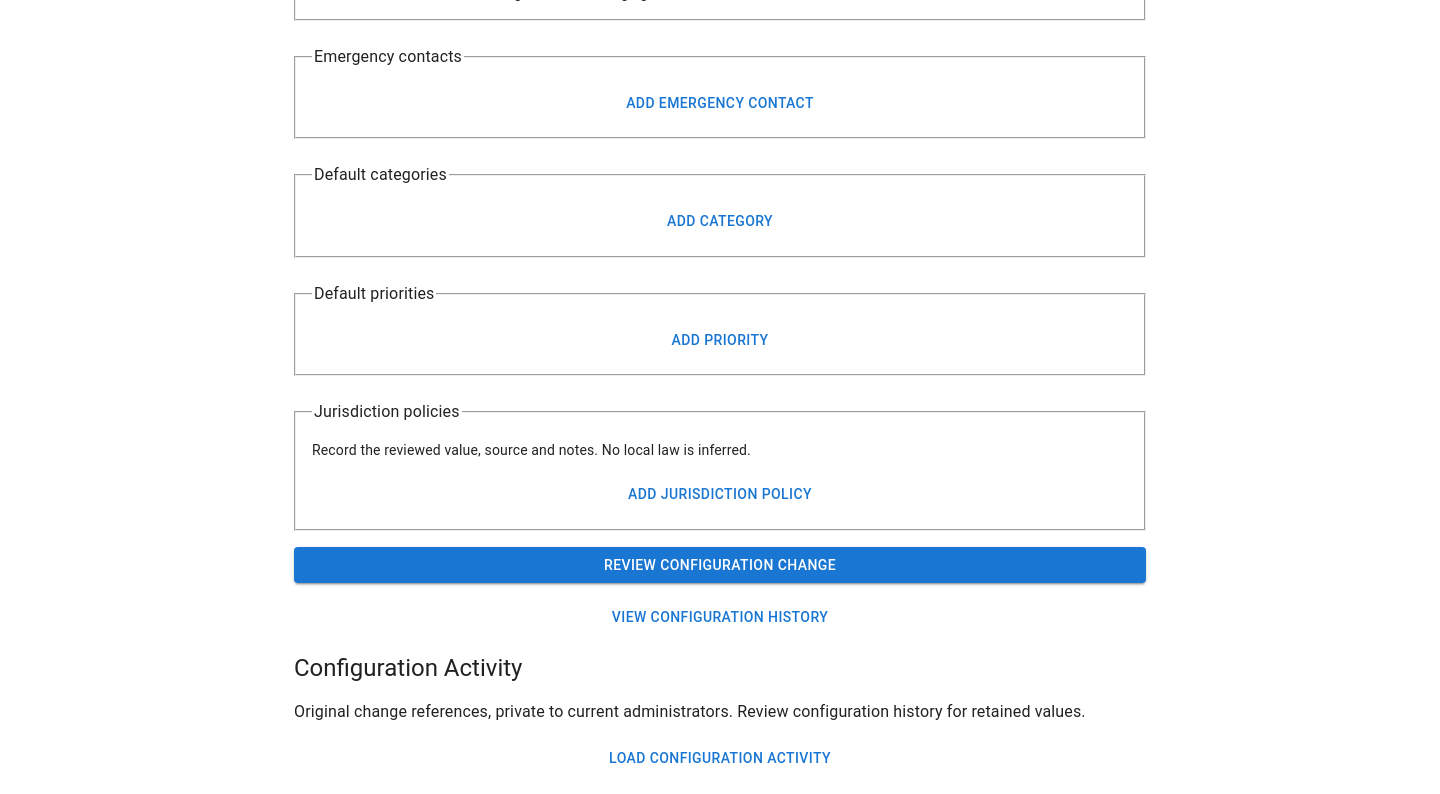
Scenario: records uncertain submission and exact original retry without keys or reviewed values
(page scrolled)
What coordinates should you click on to do the following:
click the button "Review configuration change"
I would click on:
 (720, 565)
Its box is left=294, top=546, right=1146, bottom=583.
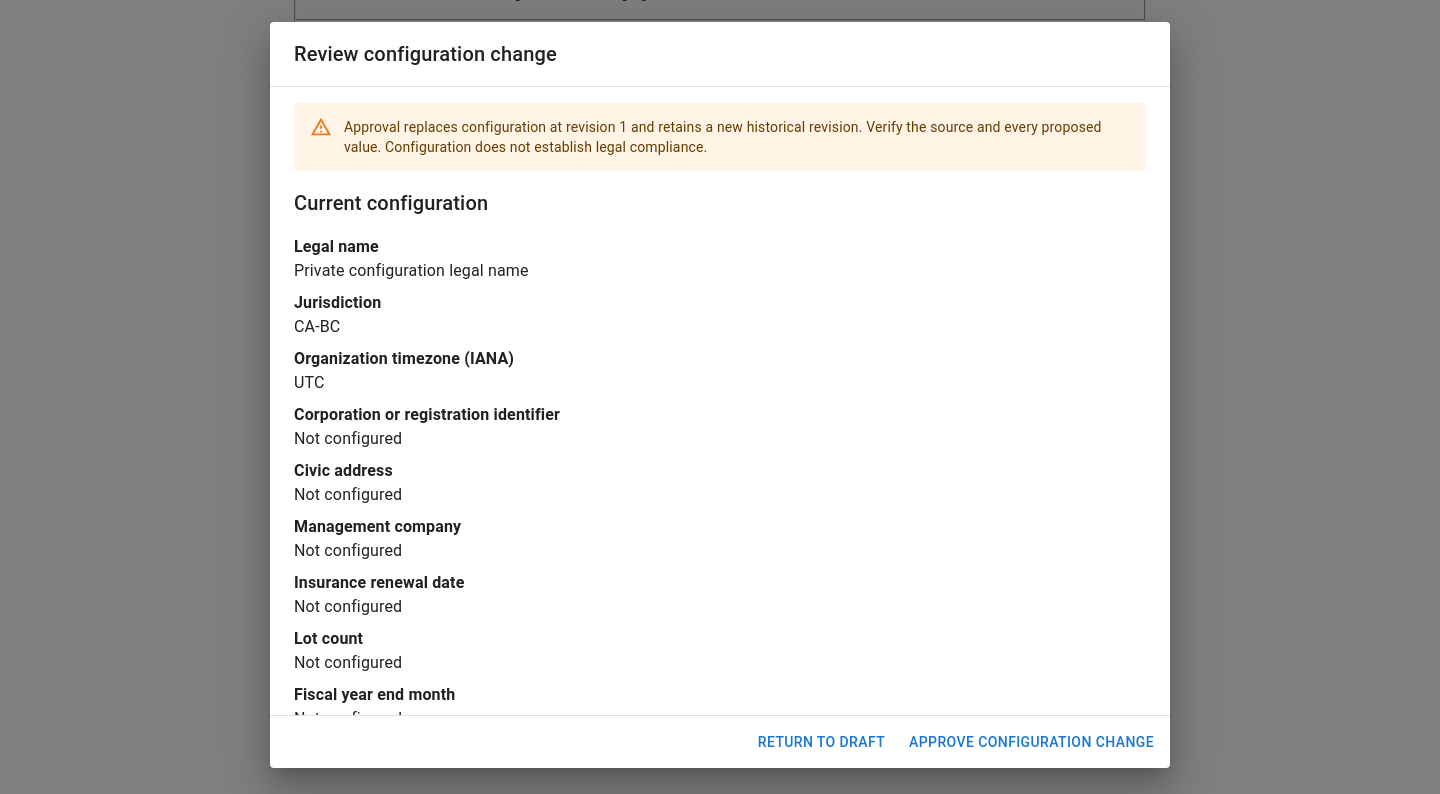
What coordinates should you click on to do the following:
click the button "Approve configuration change"
I would click on:
 (1032, 742)
Its box is left=901, top=724, right=1162, bottom=760.
(page scrolled)
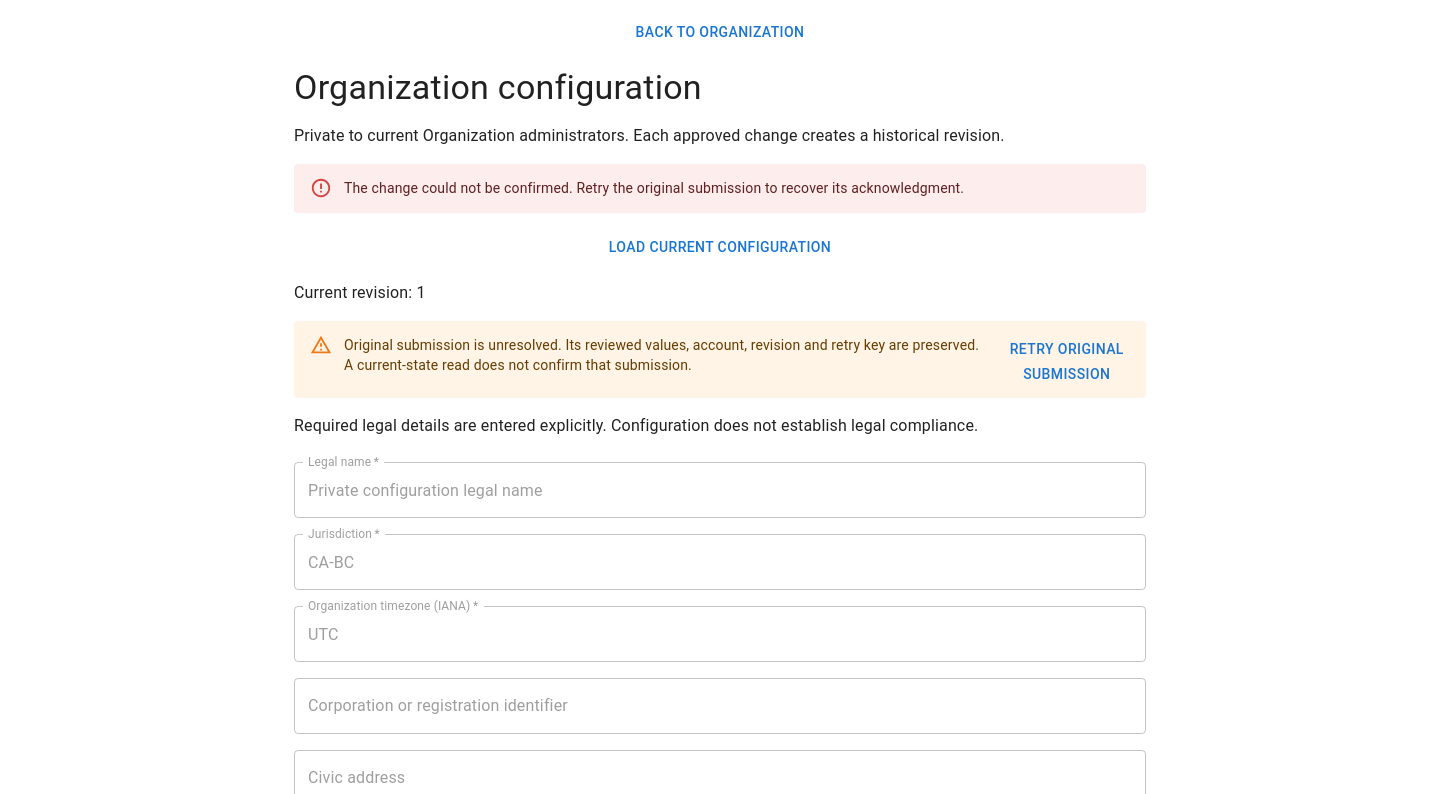
Result: the text "The change could not be confirmed. Retry the original submission to recover its acknowledgment." is shown at left=344, top=180, right=964, bottom=196
Result: the button "Retry original submission" is enabled
What coordinates should you click on to do the following:
click the button "Retry original submission"
I would click on:
 (1067, 362)
Its box is left=996, top=331, right=1138, bottom=392.
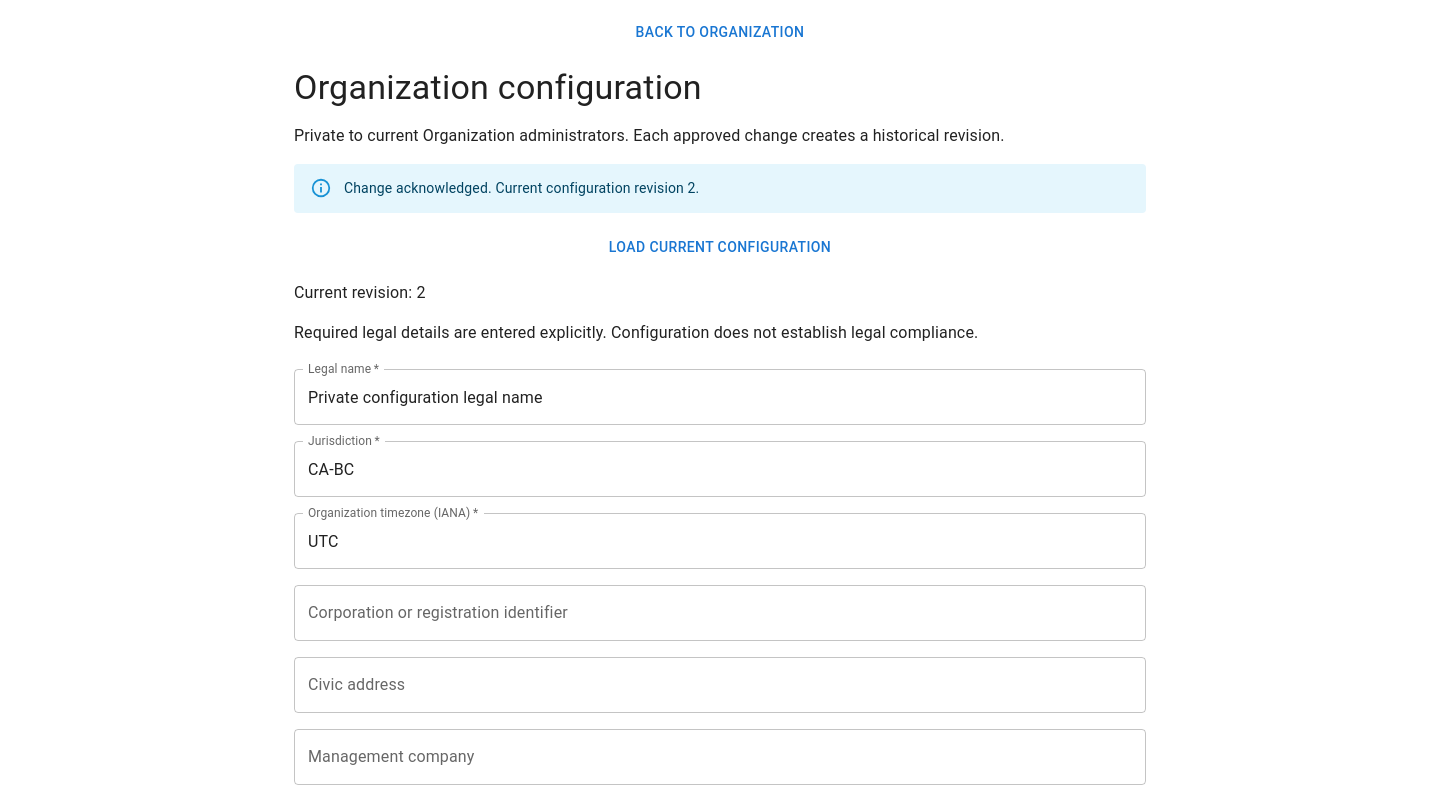
Result: the text "Change acknowledged. Current configuration revision 2." is shown at left=344, top=180, right=699, bottom=196
